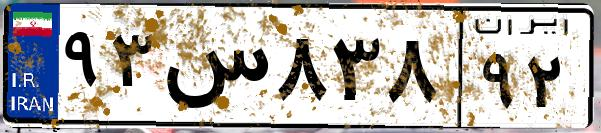2: (525, 38, 570, 115)
3: (330, 28, 385, 110), (110, 28, 158, 98)
8: (270, 28, 330, 110), (385, 28, 445, 110)
9: (57, 26, 110, 100), (475, 38, 525, 113)
س: (158, 20, 270, 120)
